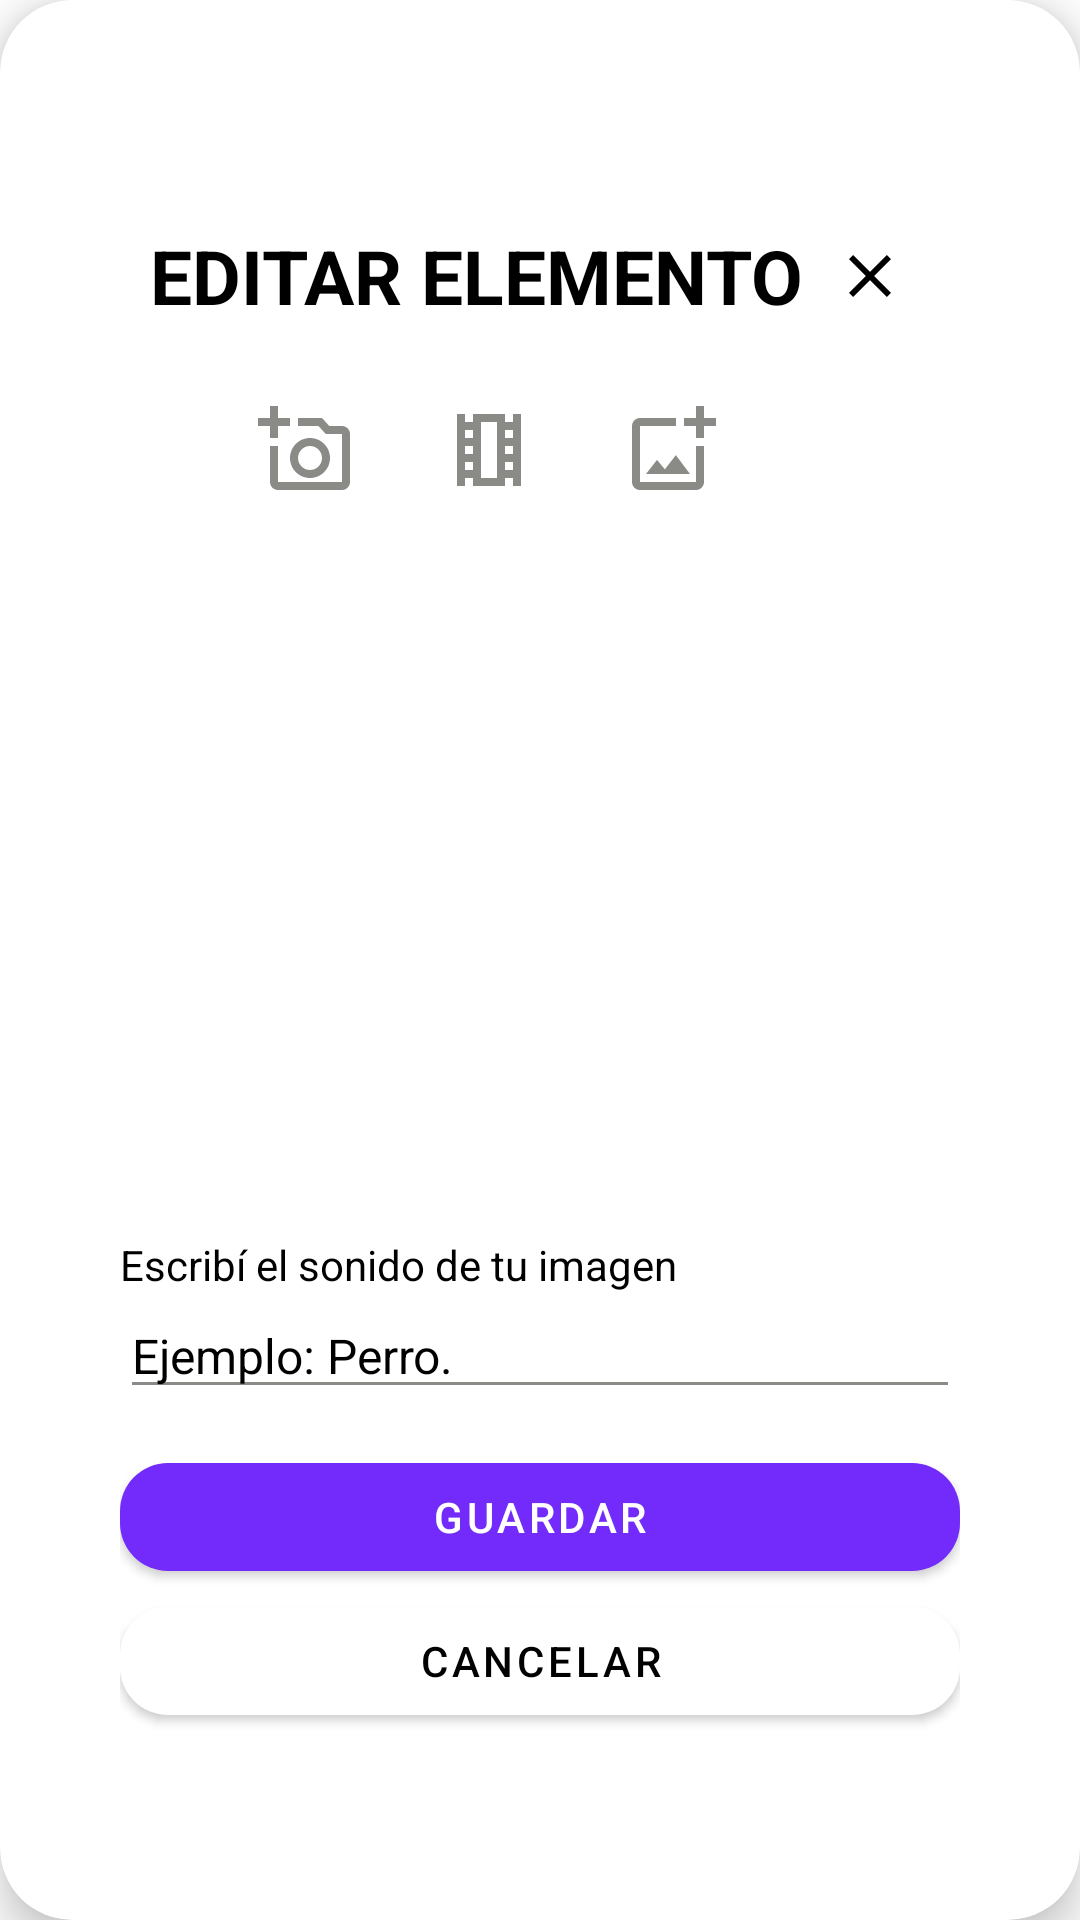

Where icons sit on this 1080x1920 app screen, as [x1,y1,x2,y2]:
Cerrar: [849,255,891,297]
